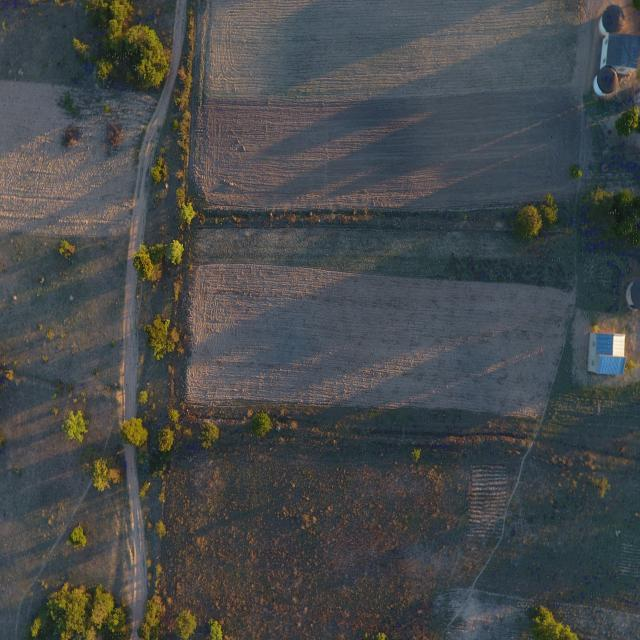boundaries: (110, 28, 630, 623)
